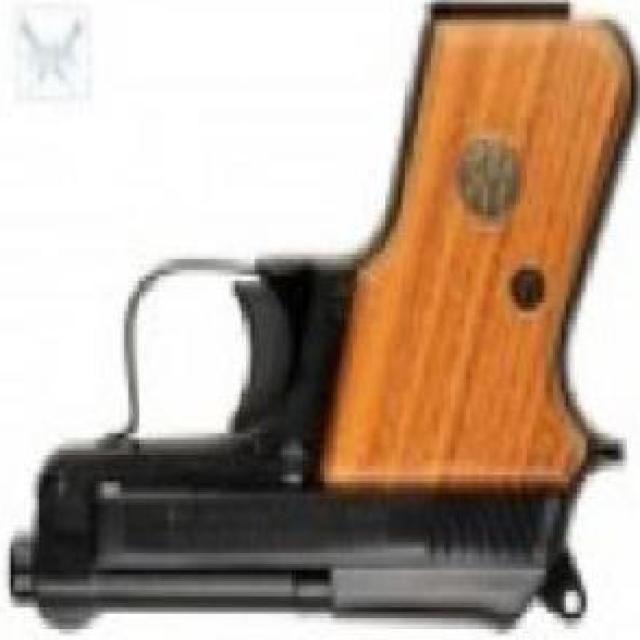pistol: (4, 19, 640, 634)
